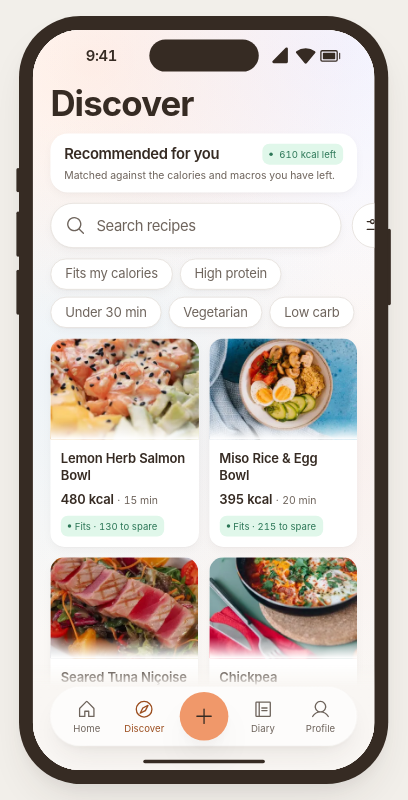
Scenario: DiscoveryScreen › filters by attribute and by name
Click the button "Vegetarian": (216, 312) [169, 297, 263, 328]
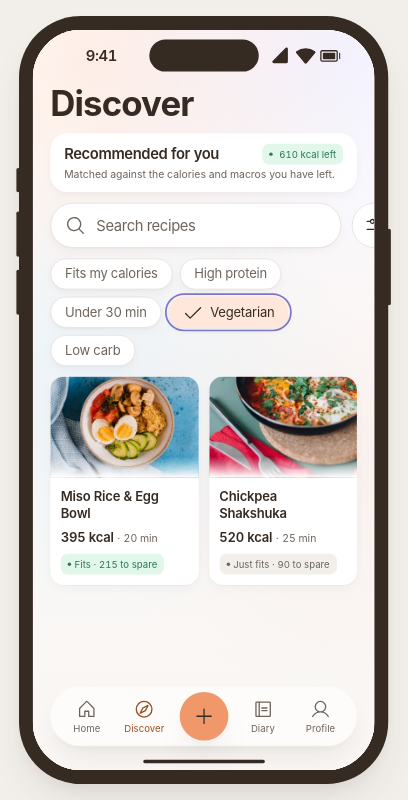
In the search field labelled "Search recipes": (212, 225) [97, 216, 327, 235], type "miso"
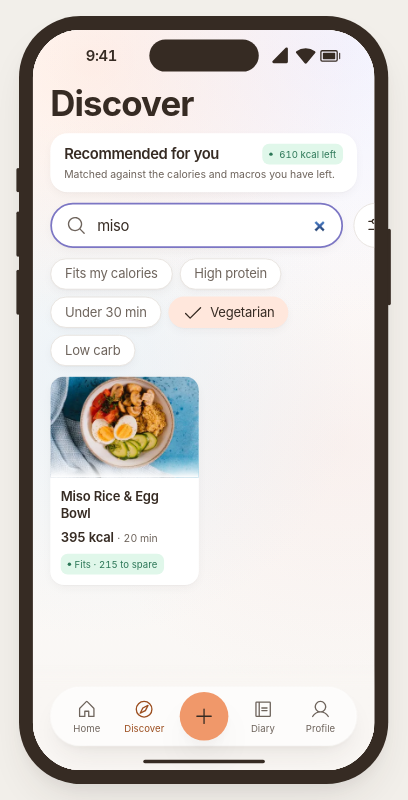
Click the button "Low carb": (93, 350) [51, 335, 136, 366]
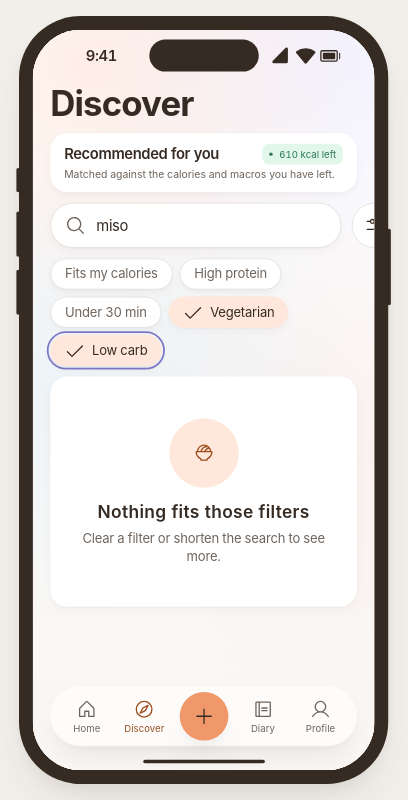
Result: the heading "Nothing fits those filters" is shown at [98, 502, 310, 522]
